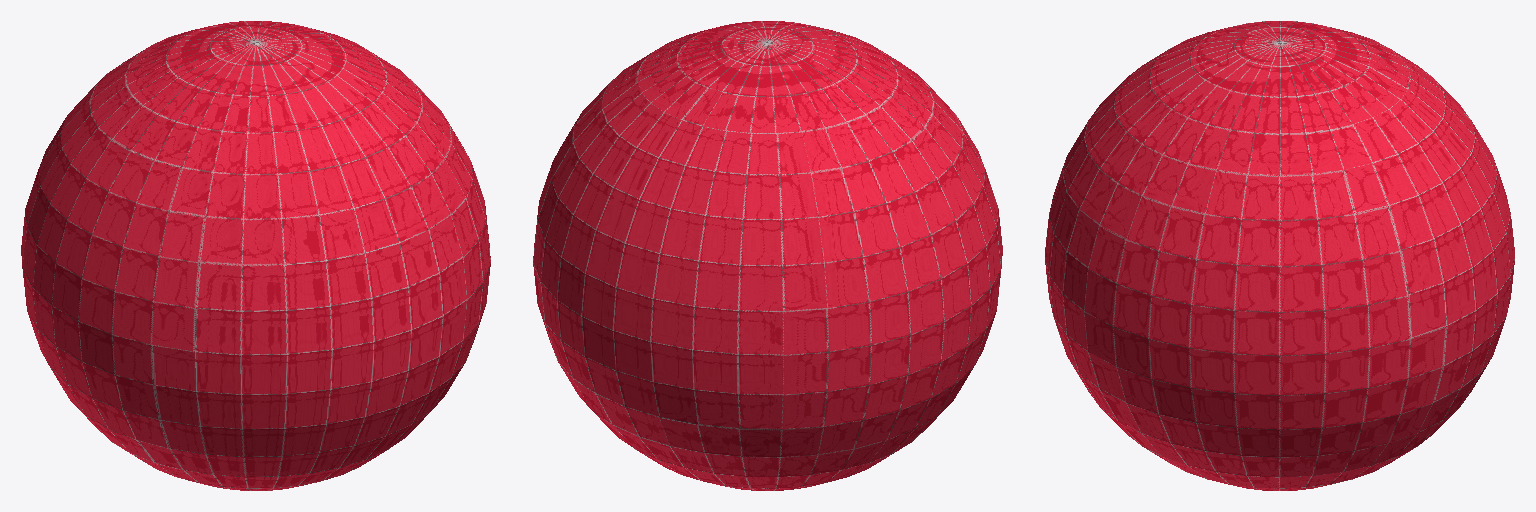
3 views of the same model, side by side, from view 1: azimuth 30°, elevation 25°; view 2: azimuth 150°, elevation 25°; view 3: azimuth 270°, elevation 25° (orthographic).
Visible parts, largest first — view 1: Sphere; view 2: Sphere; view 3: Sphere.
Part boxes in pixels (x1,y1,x2,y2): Sphere: (21, 21, 490, 490); Sphere: (533, 21, 1002, 490); Sphere: (1045, 21, 1514, 490).
Size of the model in its own units: 1.48 by 1.48 by 1.48.
1 materials, 1 textured.